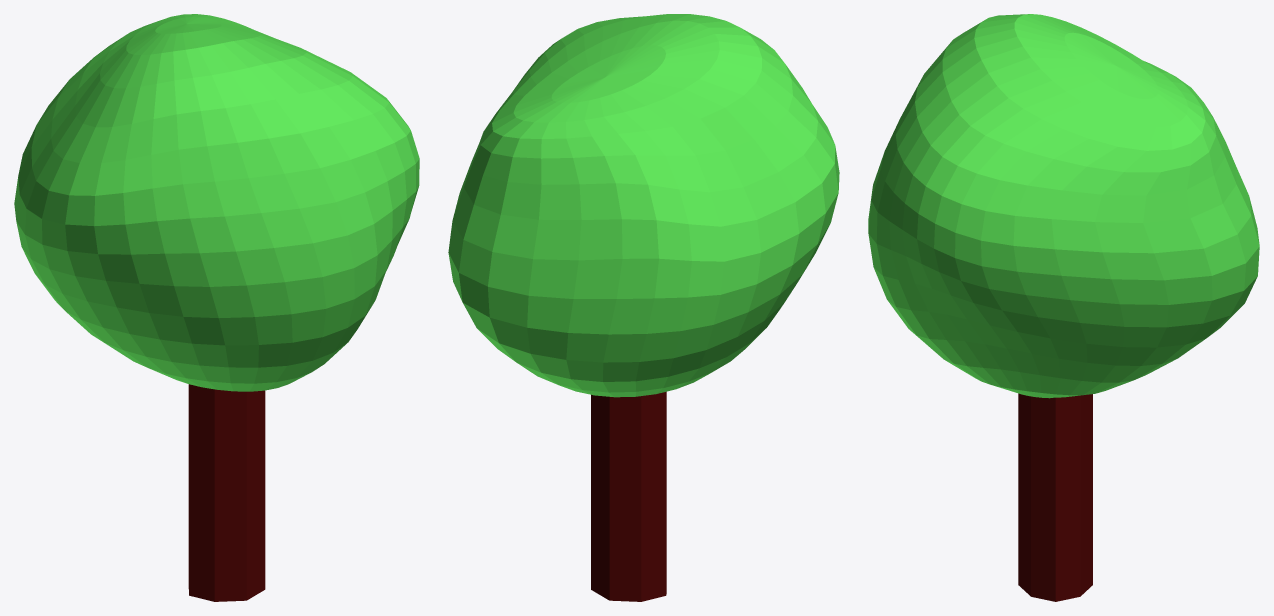
The model's file is tree1.glb.
3 renders of one model, left to right at view 1: azimuth 30°, elevation 25°; view 2: azimuth 150°, elevation 25°; view 3: azimuth 270°, elevation 25°, orthographic. The views are drawn at different scales.
Visible parts, largest first — view 1: Sphere, Cube; view 2: Sphere, Cube; view 3: Sphere, Cube.
Boxes of the visible parts, left/top/right/bottom form: Sphere: left=14, top=14, right=419, bottom=391; Cube: left=188, top=384, right=265, bottom=601; Sphere: left=448, top=14, right=839, bottom=397; Cube: left=591, top=391, right=666, bottom=601; Sphere: left=868, top=14, right=1259, bottom=398; Cube: left=1018, top=393, right=1092, bottom=601.
Size of the model in its own units: 4.66 by 7.56 by 4.97.
